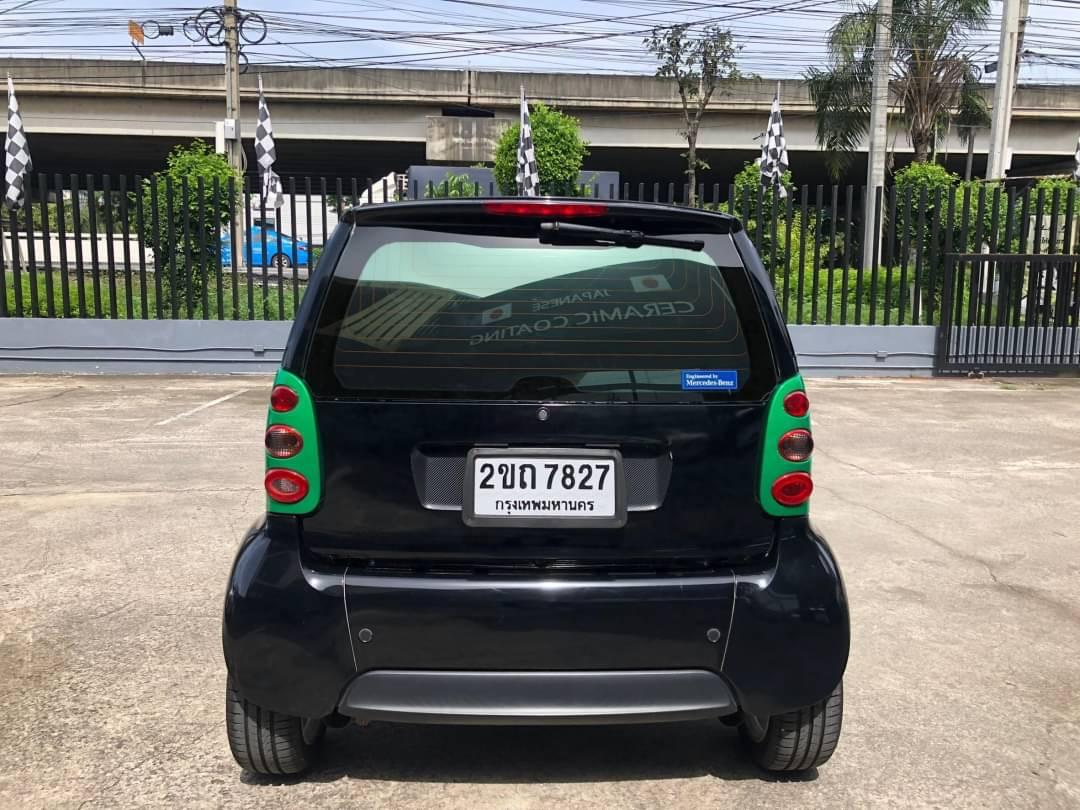license-plate: (459, 444, 630, 529)
